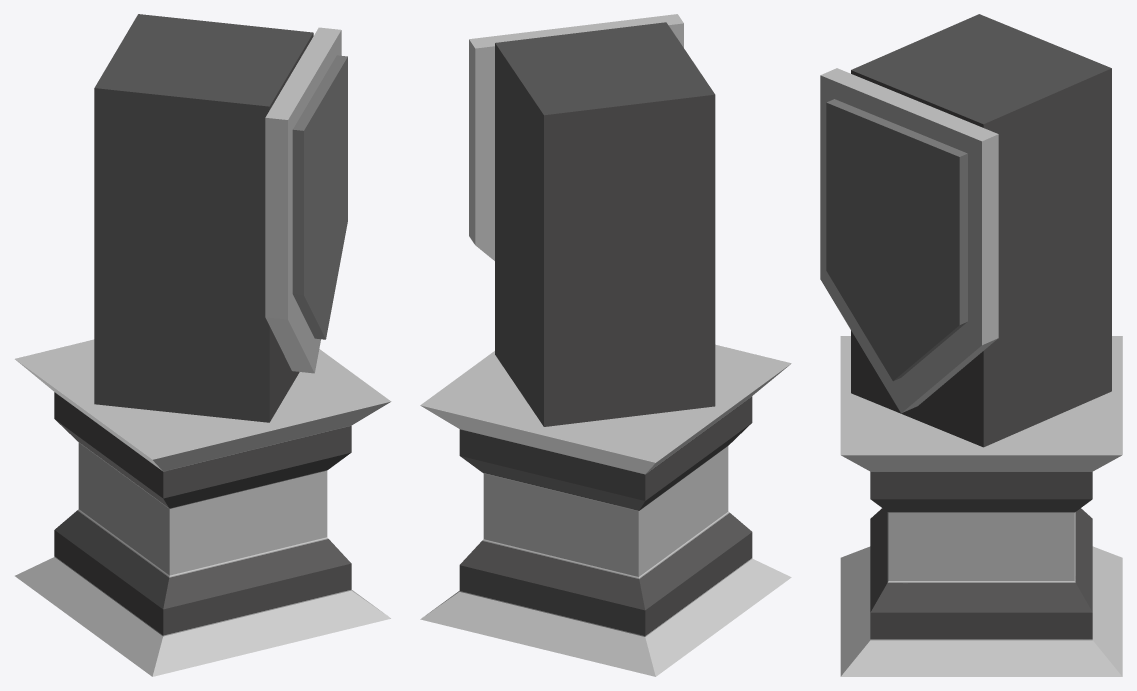
The model's file is tameng 3.fbx.
The picture shows the model from 3 angles, left to right: view 1: azimuth 30°, elevation 25°; view 2: azimuth 150°, elevation 25°; view 3: azimuth 270°, elevation 25°; orthographic projection. The views are drawn at different scales.
Parts seen in each view (by area): view 1: Cube.003, Cube.002, Cube.001, Cube; view 2: Cube.002, Cube.003, Cube; view 3: Cube.003, Cube.002, Cube.001, Cube.
Boxes of the visible parts, left/top/right/bottom form: Cube.003: left=15, top=339, right=391, bottom=676; Cube.002: left=94, top=14, right=313, bottom=422; Cube.001: left=292, top=55, right=347, bottom=339; Cube: left=265, top=27, right=341, bottom=373; Cube.002: left=495, top=22, right=715, bottom=426; Cube.003: left=420, top=344, right=791, bottom=676; Cube: left=469, top=14, right=683, bottom=260; Cube.003: left=840, top=336, right=1122, bottom=676; Cube.002: left=851, top=14, right=1111, bottom=447; Cube.001: left=826, top=99, right=967, bottom=381; Cube: left=820, top=68, right=998, bottom=413.
Bounding box in the file's own units: 271 × 538 × 269.
